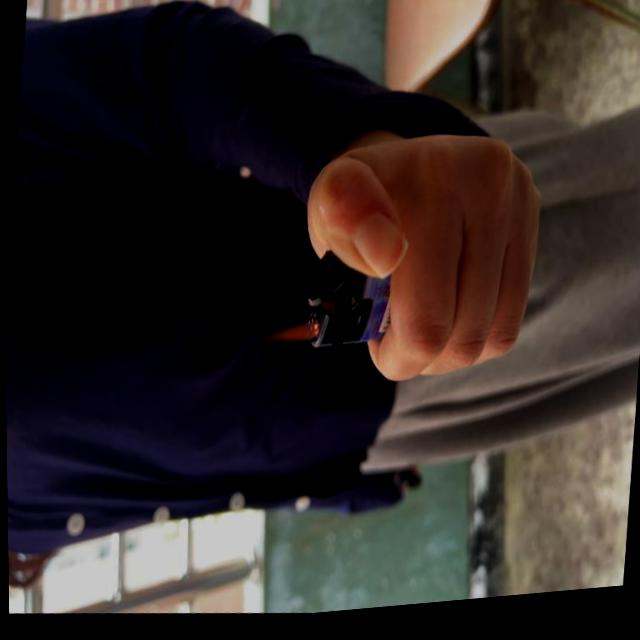helmet: (259, 318, 318, 360)
